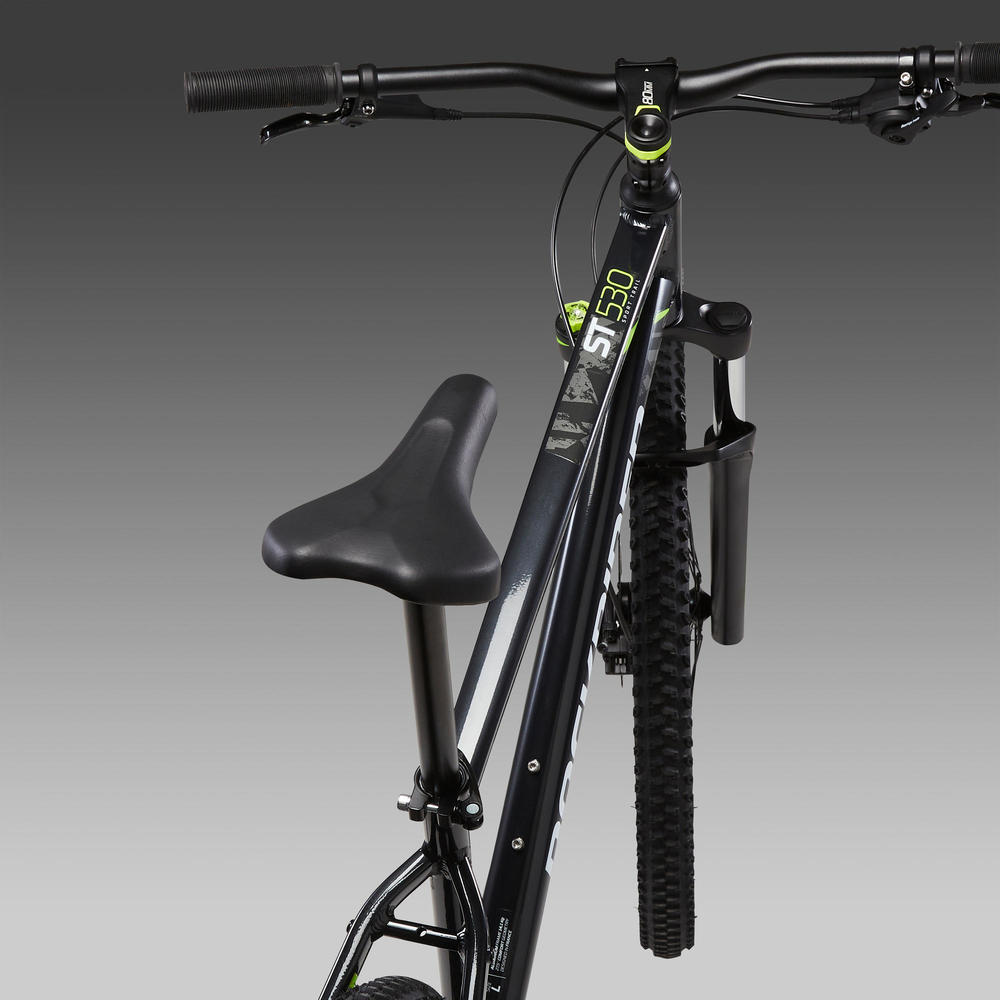MountainBike: (181, 42, 1000, 984)
